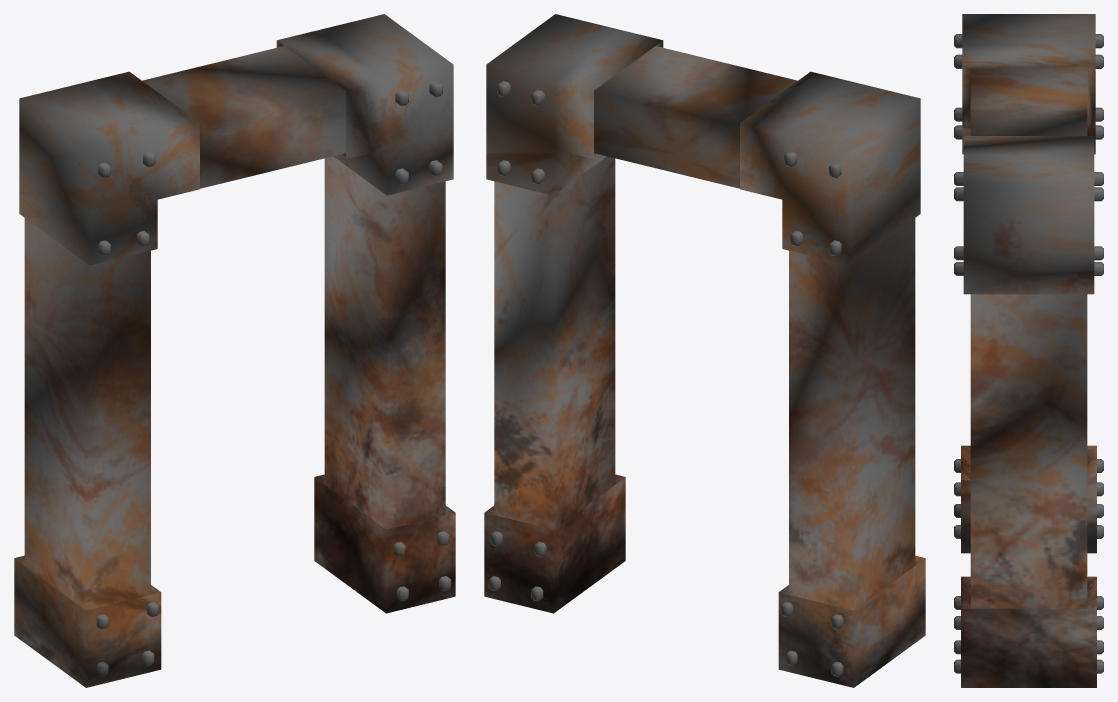
File: Door_Frame.fbx
3 renders of one model, left to right at view 1: azimuth 30°, elevation 25°; view 2: azimuth 150°, elevation 25°; view 3: azimuth 270°, elevation 25°, orthographic. The views are drawn at different scales.
Parts seen in each view (by area): view 1: pCube19; view 2: pCube19; view 3: pCube19.
Boxes of the visible parts, <box> form: pCube19: <box>14,14,455,687</box>; pCube19: <box>484,14,925,687</box>; pCube19: <box>954,14,1103,687</box>.
Bounding box in the file's own units: 175 × 243 × 65.21.
Materials: 1 (1 with a texture image).
